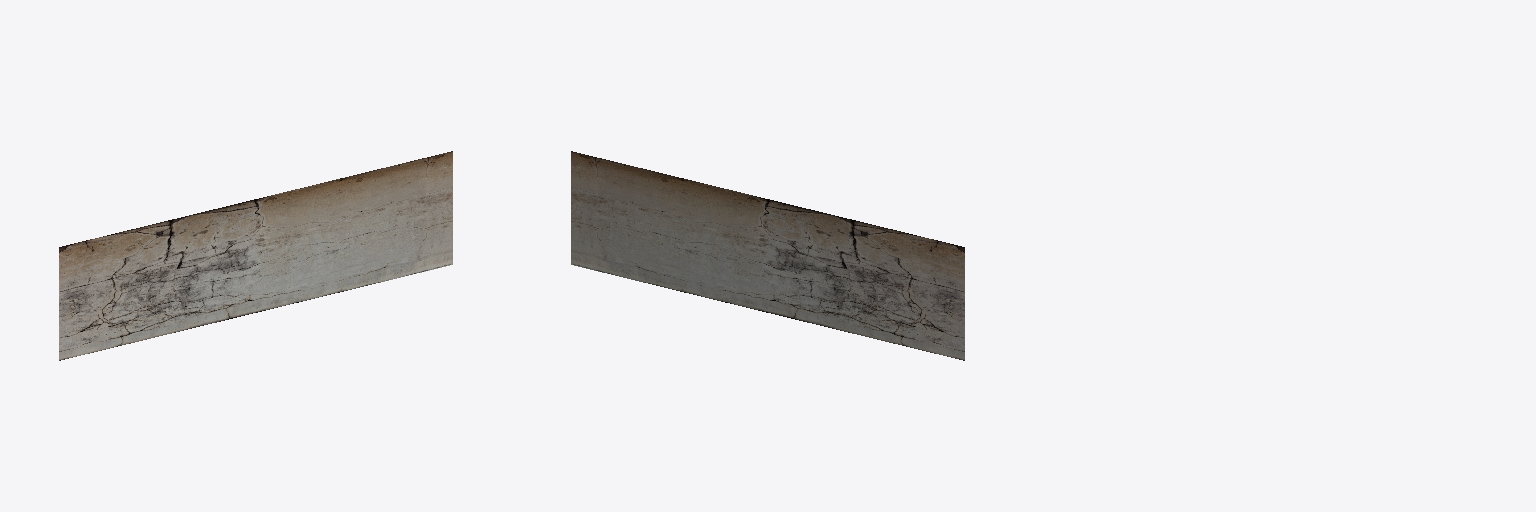
3 views of the same model, side by side, from view 1: azimuth 30°, elevation 25°; view 2: azimuth 150°, elevation 25°; view 3: azimuth 270°, elevation 25° (orthographic).
Parts seen in each view (by area): view 1: Mesh_wall2; view 2: Mesh_wall2; view 3: none.
Part boxes in pixels (x1,y1,x2,y2): Mesh_wall2: (59,151,452,360); Mesh_wall2: (571,151,964,360).
Size of the model in its own units: 10.85 by 3 by 0.
Materials: 1 (1 with a texture image).